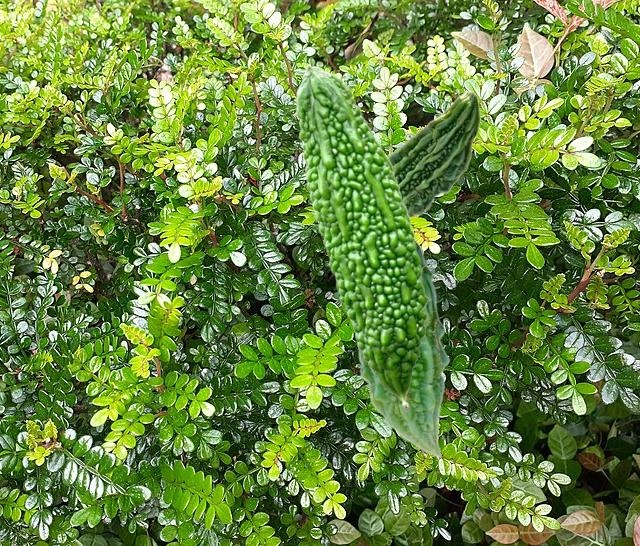ampalaya: (293, 63, 431, 413), (354, 215, 451, 459), (388, 89, 481, 219)
